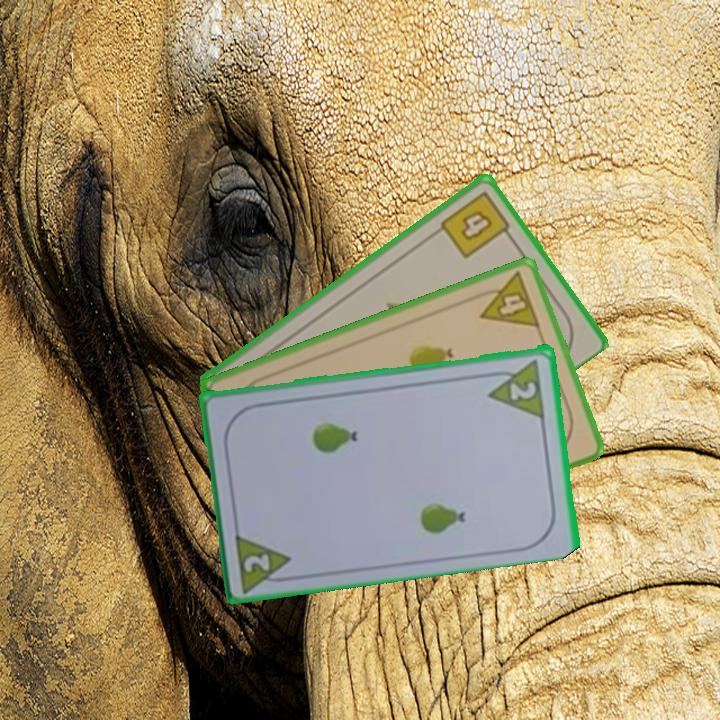2p: (231, 528, 298, 593), (507, 377, 540, 403)
4b: (436, 187, 517, 262)
4p: (469, 268, 543, 331)
